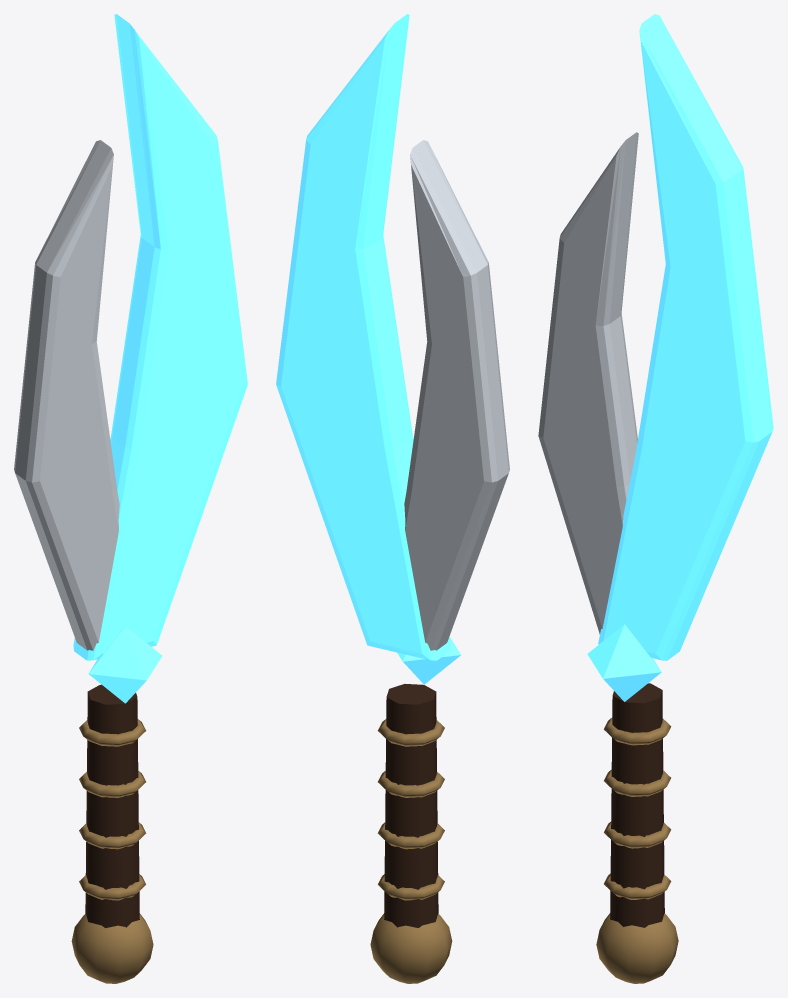
Rendered from dagger_f3_6121af52.glb.
3 renders of one model, left to right at view 1: azimuth 30°, elevation 25°; view 2: azimuth 150°, elevation 25°; view 3: azimuth 330°, elevation 25°, orthographic.
Parts seen in each view (by area): view 1: m0_gm120_, m1_ow80_, m3_ow80_, m4_ow80_, m2_gm160_; view 2: m0_gm120_, m1_ow80_, m3_ow80_, m4_ow80_, m2_gm160_; view 3: m0_gm120_, m1_ow80_, m3_ow80_, m4_ow80_, m2_gm160_.
Boxes of the visible parts, x1,y1,x2,y2 form: m0_gm120_: (73, 14, 247, 660); m1_ow80_: (14, 140, 119, 650); m3_ow80_: (85, 684, 139, 927); m4_ow80_: (71, 719, 153, 983); m2_gm160_: (88, 626, 162, 703); m0_gm120_: (276, 14, 450, 660); m1_ow80_: (404, 140, 509, 650); m3_ow80_: (384, 684, 438, 927); m4_ow80_: (370, 719, 452, 983); m2_gm160_: (397, 636, 460, 684); m0_gm120_: (598, 14, 773, 660); m1_ow80_: (538, 132, 638, 634); m3_ow80_: (610, 683, 664, 927); m4_ow80_: (596, 717, 678, 983); m2_gm160_: (587, 624, 661, 701).
Size of the model in its own units: 0.2965 by 1.23 by 0.1257.
